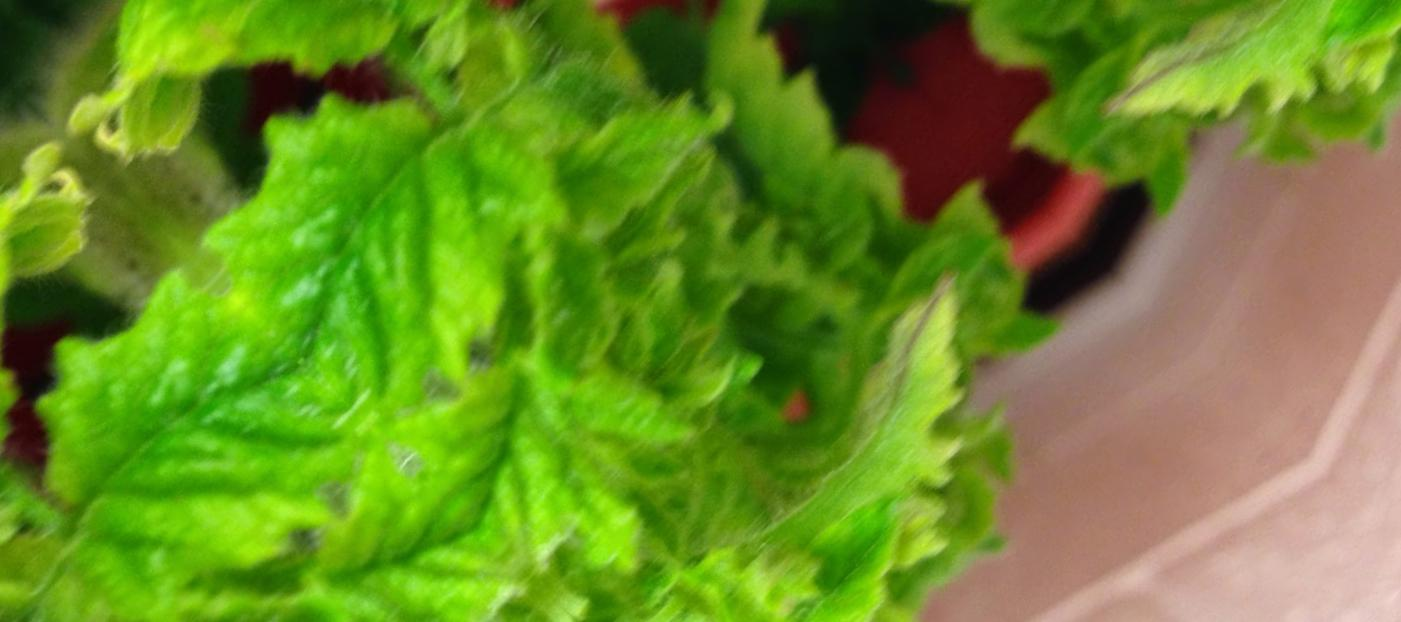Tomato leaf yellow virus: (156, 0, 615, 429), (24, 0, 477, 257), (386, 260, 711, 586)
